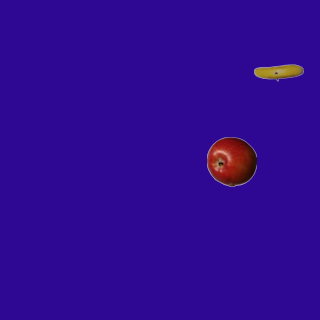Apple Braeburn: (206, 136, 256, 186)
Banana: (253, 47, 303, 97)
